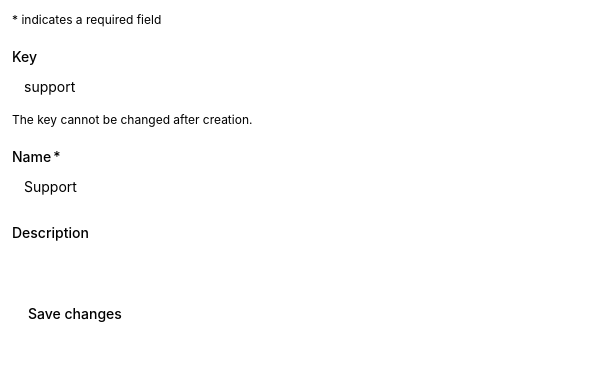
Test: RoleSettingsForm › PATCHes and shows the saved confirmation
Type " Team" into the field labelled "Name" at (300, 186), box [12,168,588,204]
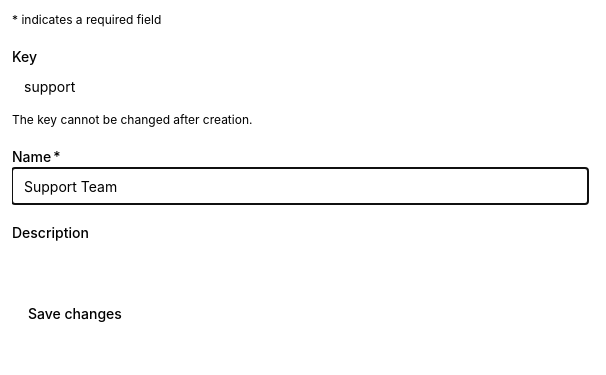
Click the button "Save changes" at (75, 314), box [12,296,138,332]
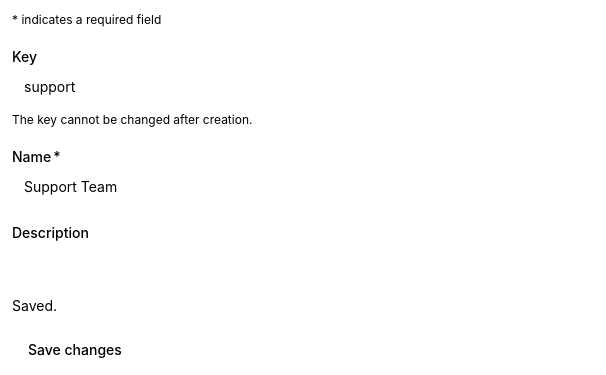
Expected: the message reads "Saved.", [12,297,57,314]
